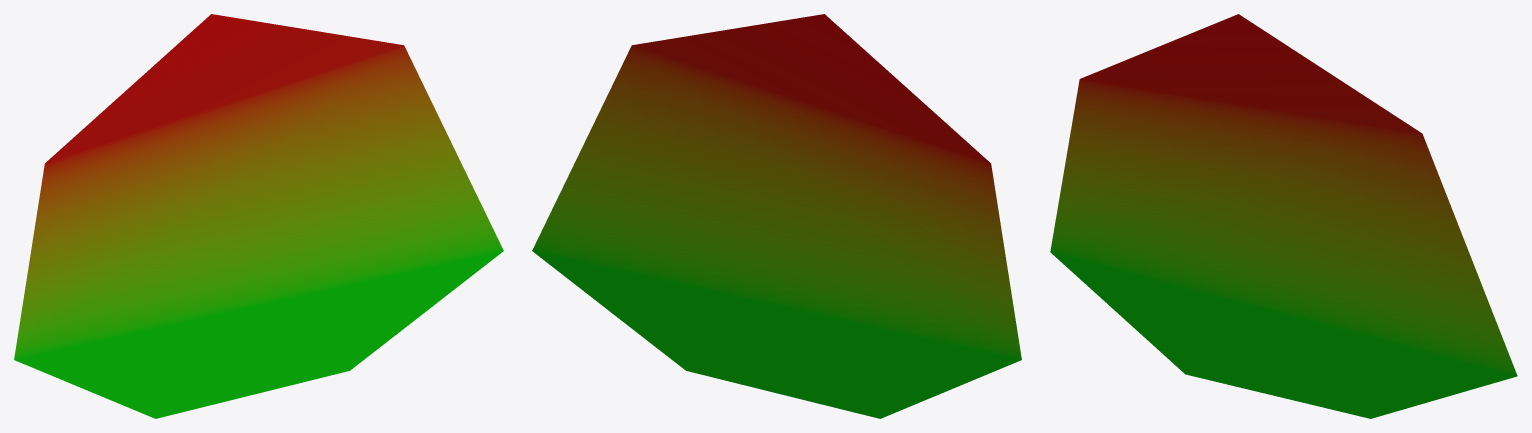
File: ueyoebmia_Var9_LOD3.fbx
3 renders of one model, left to right at view 1: azimuth 30°, elevation 25°; view 2: azimuth 150°, elevation 25°; view 3: azimuth 330°, elevation 25°, orthographic. The views are drawn at different scales.
Visible parts, largest first — view 1: _5ace_Var9_LOD3; view 2: _5ace_Var9_LOD3; view 3: _5ace_Var9_LOD3.
Part boxes in pixels (x1=…): _5ace_Var9_LOD3: x1=14, y1=14, x2=503, y2=418; _5ace_Var9_LOD3: x1=532, y1=14, x2=1021, y2=418; _5ace_Var9_LOD3: x1=1050, y1=14, x2=1517, y2=418.
Bounding box in the file's own units: 51.79 × 39.54 × 1.91e-06.
